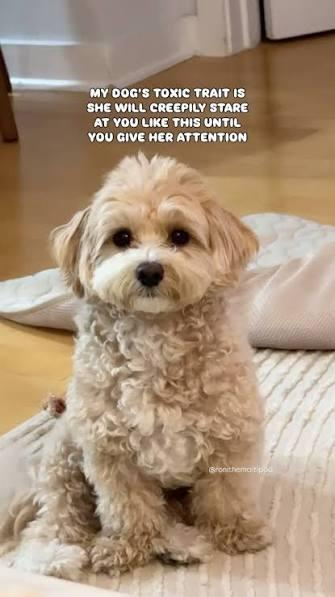puppy-dog: (16, 154, 269, 577)
